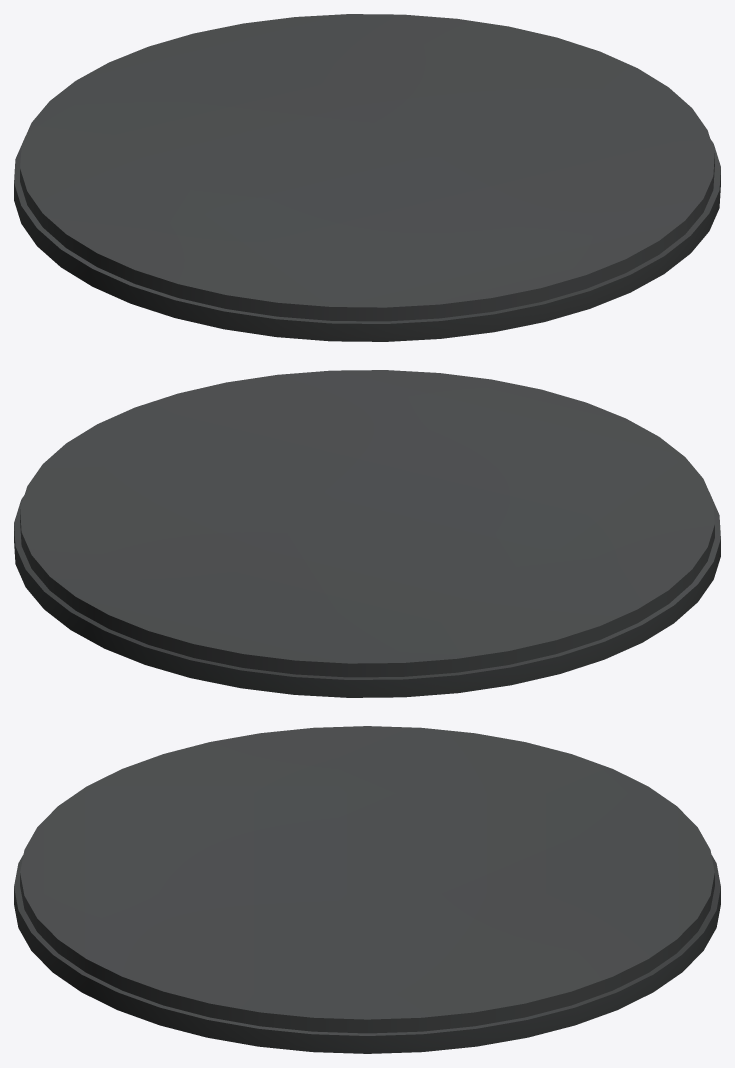
The model's file is Platform_Round_Stepped.fbx.
3 renders of one model, top to bottom at view 1: azimuth 30°, elevation 25°; view 2: azimuth 150°, elevation 25°; view 3: azimuth 270°, elevation 25°, orthographic.
Visible parts, largest first — view 1: Platform_Round_Stepped; view 2: Platform_Round_Stepped; view 3: Platform_Round_Stepped.
Part boxes in pixels (<box>): Platform_Round_Stepped: <box>14,14,720,341</box>; Platform_Round_Stepped: <box>14,370,720,697</box>; Platform_Round_Stepped: <box>14,726,720,1053</box>.
Size of the model in its own units: 800 by 39.64 by 800.
